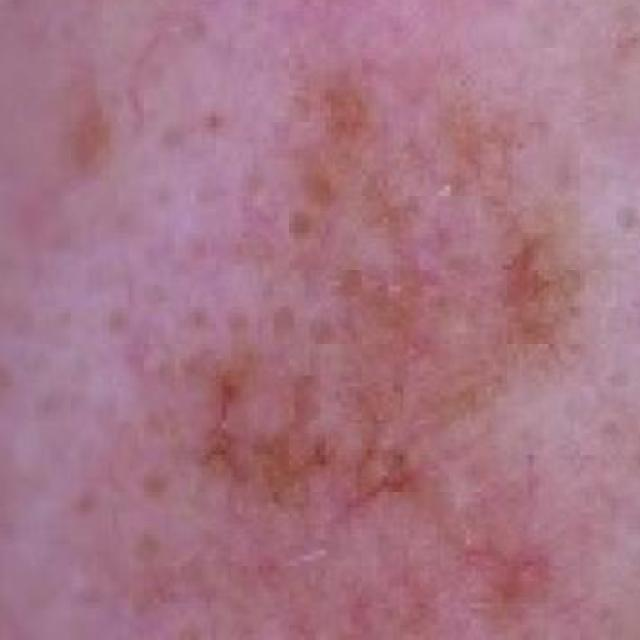BKL: (83, 61, 640, 640)
